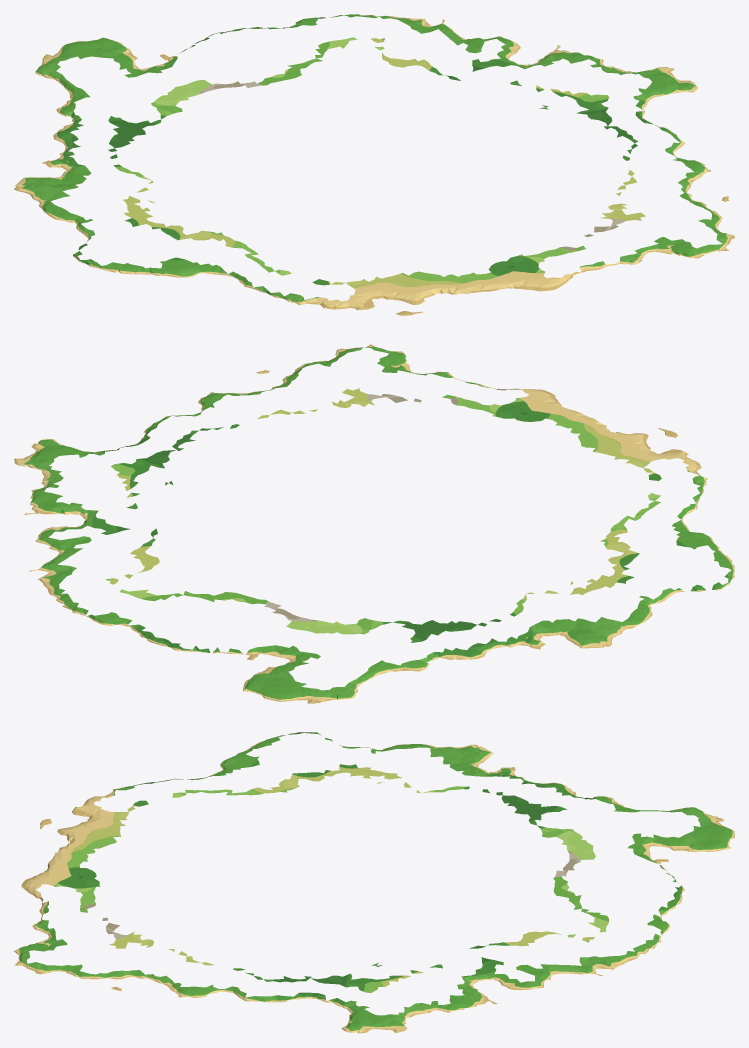
Rendered from Isl-rocky1-Ground.fbx.
The picture shows the model from 3 angles, top to bottom: view 1: azimuth 30°, elevation 25°; view 2: azimuth 150°, elevation 25°; view 3: azimuth 270°, elevation 25°; orthographic projection. The views are drawn at different scales.
Visible parts, largest first — view 1: Isl-rocky1-Ground-c11, Isl-rocky1-Ground-c12, Isl-rocky1-Ground-c22, Isl-rocky1-Ground-c21, Isl-rocky1-Ground-c13; view 2: Isl-rocky1-Ground-c12, Isl-rocky1-Ground-c22, Isl-rocky1-Ground-c11, Isl-rocky1-Ground-c21, Isl-rocky1-Ground-c13, Isl-rocky1-Ground-c23; view 3: Isl-rocky1-Ground-c22, Isl-rocky1-Ground-c11, Isl-rocky1-Ground-c12, Isl-rocky1-Ground-c21, Isl-rocky1-Ground-c13, Isl-rocky1-Ground-c23.
Boxes of the visible parts, box(x1,y1,x2,y2) form: Isl-rocky1-Ground-c11: box(118, 228, 561, 315); Isl-rocky1-Ground-c12: box(14, 56, 283, 241); Isl-rocky1-Ground-c22: box(277, 14, 697, 125); Isl-rocky1-Ground-c21: box(524, 118, 734, 285); Isl-rocky1-Ground-c13: box(35, 33, 217, 85); Isl-rocky1-Ground-c12: box(238, 557, 684, 682); Isl-rocky1-Ground-c22: box(14, 438, 246, 624); Isl-rocky1-Ground-c11: box(492, 389, 731, 563); Isl-rocky1-Ground-c21: box(137, 344, 528, 450); Isl-rocky1-Ground-c13: box(175, 645, 366, 703); Isl-rocky1-Ground-c23: box(72, 607, 180, 649); Isl-rocky1-Ground-c22: box(311, 887, 659, 1033); Isl-rocky1-Ground-c11: box(21, 740, 312, 889); Isl-rocky1-Ground-c12: box(311, 744, 660, 887); Isl-rocky1-Ground-c21: box(14, 886, 312, 1002); Isl-rocky1-Ground-c13: box(654, 807, 734, 889); Isl-rocky1-Ground-c23: box(653, 887, 684, 943).
Bounding box in the file's own units: 108 × 0.4896 × 110.
